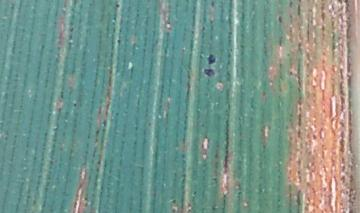tarspot: (202, 68, 216, 76), (276, 14, 284, 24), (208, 54, 216, 63), (113, 2, 121, 9), (72, 101, 78, 108)
